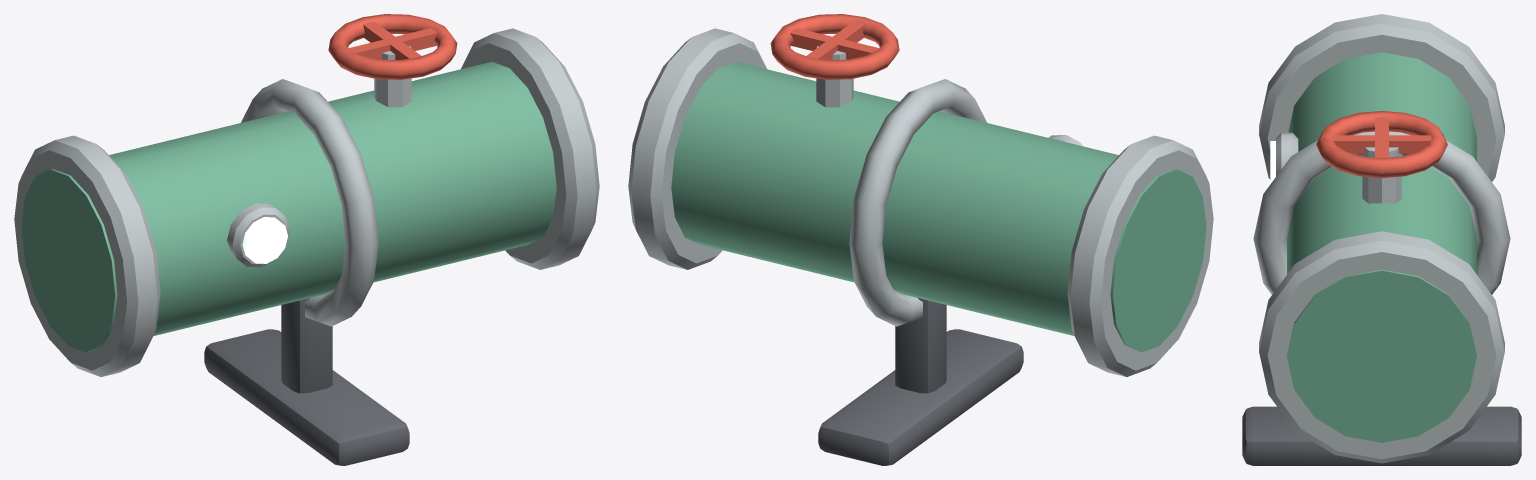
Rendered from pipe.glb.
3 renders of one model, left to right at view 1: azimuth 30°, elevation 25°; view 2: azimuth 150°, elevation 25°; view 3: azimuth 270°, elevation 25°, orthographic.
Parts seen in each view (by area): view 1: pipe; view 2: pipe; view 3: pipe.
Part boxes in pixels (left/top/right/bottom): pipe: left=14, top=14, right=599, bottom=465; pipe: left=628, top=14, right=1213, bottom=465; pipe: left=1242, top=14, right=1521, bottom=465.
Bounding box in the file's own units: 1 × 0.7056 × 0.5.
